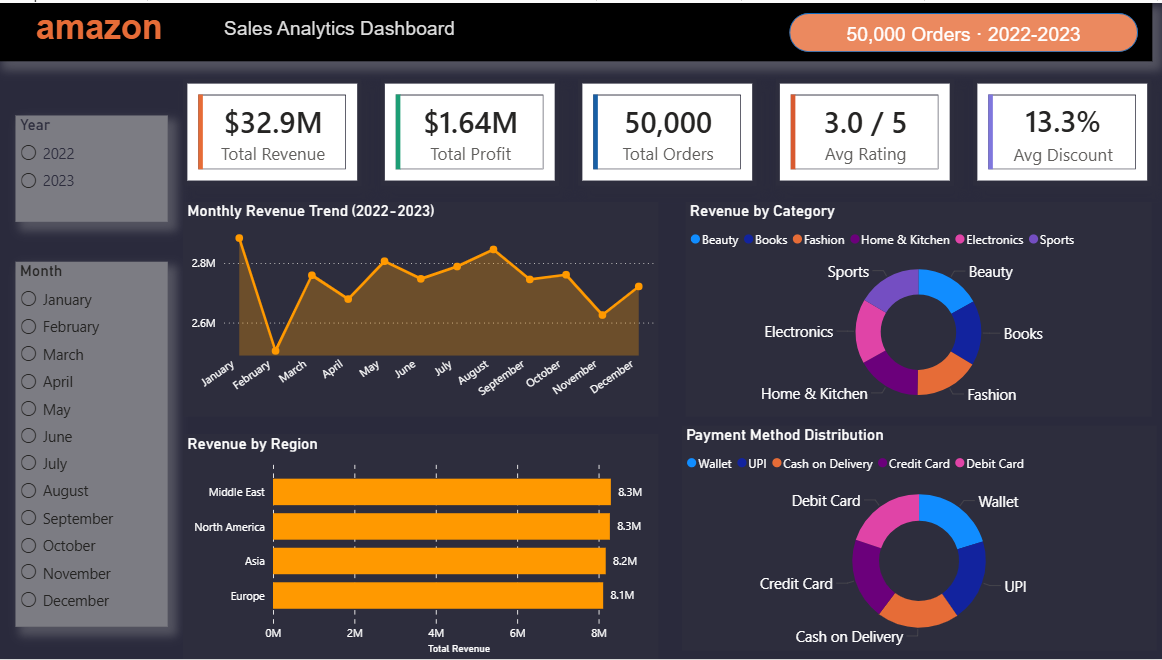

Layout of this report page (visuals, bound fields, positions):
{"tool":"powerbi","page":{"name":"Page 1","canvas":[1280,720],"ordinal":0},"visuals":[{"type":"textbox","box":[0,0,1267.1,64.3],"z":0},{"type":"listSlicer","fields":{"Values":["amazon_dataset.order_date.Variation.Date Hierarchy.Year"]},"box":[19.2,123.5,167.4,116.6],"z":1000},{"type":"listSlicer","fields":{"Values":["amazon_dataset.order_date.Variation.Date Hierarchy.Month"]},"box":[19.2,284,167.4,400.7],"z":2000},{"type":"textbox","box":[0,0,185.7,64.3],"z":3000},{"type":"textbox","box":[202.9,11.4,315.7,52.9],"z":4000},{"type":"shape","box":[868.6,11.4,382.9,42.9],"z":5000},{"type":"textbox","box":[868.6,0,382.9,81.4],"z":6000},{"type":"cardVisual","fields":{"Data":["amazon_dataset.Avg Discount"]},"box":[1070.3,83.7,196.2,116.6],"z":7000},{"type":"cardVisual","fields":{"Data":["Divide(amazon_dataset.Avg Rating, ScopedEval(amazon_dataset.Avg Rating, []))"]},"box":[853.5,83.7,196.2,116.6],"z":8000},{"type":"cardVisual","fields":{"Data":["amazon_dataset.Total Orders"]},"box":[636.7,83.7,196.2,116.6],"z":9000},{"type":"cardVisual","fields":{"Data":["amazon_dataset.Total Profit"]},"box":[419.9,83.7,196.2,116.6],"z":10000},{"type":"cardVisual","fields":{"Data":["amazon_dataset.Total Revenue"]},"box":[203.1,83.7,196.2,116.6],"z":11000},{"type":"lineChart","title":"Monthly Revenue Trend (2022-2023)","fields":{"Category":["amazon_dataset.order_date.Variation.Date Hierarchy.Month"],"Y":["Sum(amazon_dataset.total_revenue)"]},"box":[203.1,218.2,521.4,236],"z":12000},{"type":"donutChart","title":"Revenue by Category","fields":{"Category":["amazon_dataset.product_category"],"Y":["amazon_dataset.Total Revenue"]},"box":[754.7,218.2,511.8,236],"z":13000},{"type":"clusteredBarChart","title":"Revenue by Region","fields":{"Category":["amazon_dataset.customer_region"],"Y":["amazon_dataset.Total Revenue"]},"box":[203.1,473.4,521.4,247],"z":14000},{"type":"donutChart","title":"Payment Method Distribution","fields":{"Y":["amazon_dataset.Total Revenue"],"Category":["amazon_dataset.payment_method"]},"box":[750.6,463.8,521.4,247],"z":15000}]}

Visuals, with their boxes in screenshot pixels (x1, y1, x2, y2), scaled from the page's 1280x720 canvas onto the 1162x660 screenshot:
textbox: region(0, 0, 1150, 59)
listSlicer - amazon_dataset.order_date.Variation.Date Hierarchy.Year: region(17, 113, 169, 220)
listSlicer - amazon_dataset.order_date.Variation.Date Hierarchy.Month: region(17, 260, 169, 628)
textbox: region(0, 0, 169, 59)
textbox: region(184, 10, 471, 59)
shape: region(789, 10, 1136, 50)
textbox: region(789, 0, 1136, 75)
cardVisual - amazon_dataset.Avg Discount: region(972, 77, 1150, 184)
cardVisual - Divide(amazon_dataset.Avg Rating, ScopedEval(amazon_dataset.Avg Rating, [])): region(775, 77, 953, 184)
cardVisual - amazon_dataset.Total Orders: region(578, 77, 756, 184)
cardVisual - amazon_dataset.Total Profit: region(381, 77, 559, 184)
cardVisual - amazon_dataset.Total Revenue: region(184, 77, 362, 184)
"Monthly Revenue Trend (2022-2023)" lineChart: region(184, 200, 658, 416)
"Revenue by Category" donutChart: region(685, 200, 1150, 416)
"Revenue by Region" clusteredBarChart: region(184, 434, 658, 659)
"Payment Method Distribution" donutChart: region(681, 425, 1155, 652)
